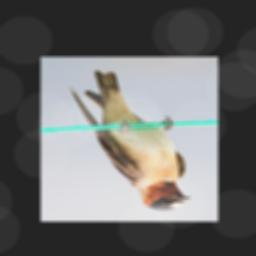Swallow: (69, 70, 191, 211)
